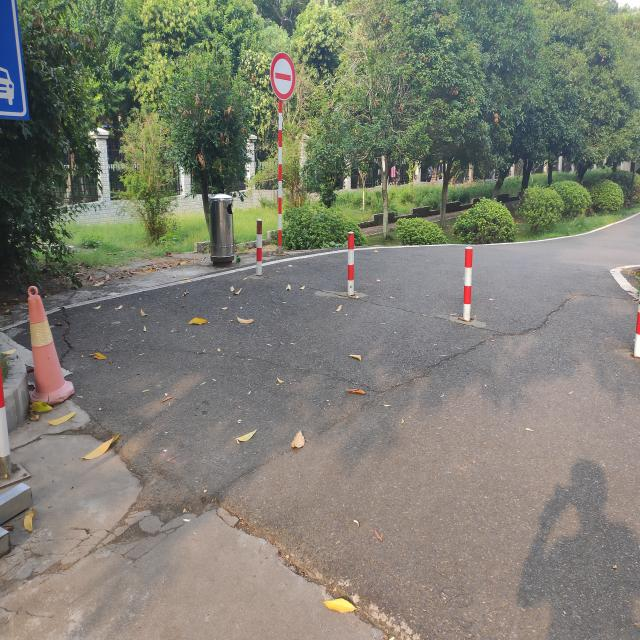ash bin: (209, 191, 235, 265)
reflective_cone: (27, 284, 75, 406)
warning_column: (460, 245, 476, 321), (344, 230, 356, 296), (253, 218, 265, 276), (278, 99, 282, 247)
